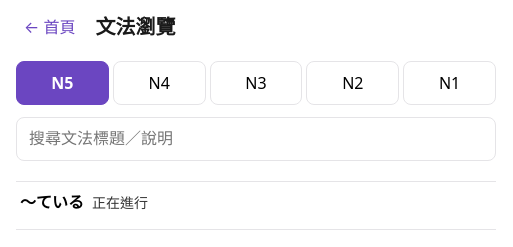
Test: GrammarBrowsePage search › finds entries from other levels while searching, showing a level badge, and returns to level-tab browsing when cleared
Expected: the text "～ている" is shown, [20,190,84,214]
Type "ばよかった" into the search field labelled "搜尋文法" at {"x": 256, "y": 139}, box [16,117,496,161]
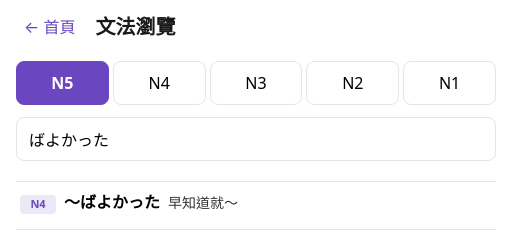
Now the text "～ばよかった" is shown, box [64,190,160,214]
Now the button "～ている" is gone
Now the text "N4" is shown, box [20,195,56,214]
Clear the search field named "搜尋文法" at {"x": 256, "y": 139}, box [16,117,496,161]
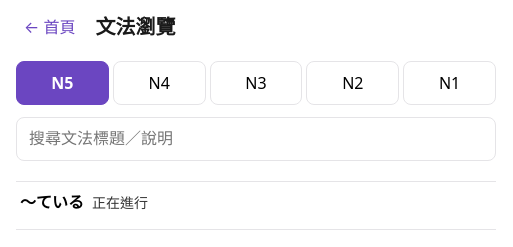
Now the text "～ている" is shown, box [20,190,84,214]
Now the button "～ばよかった" is gone
